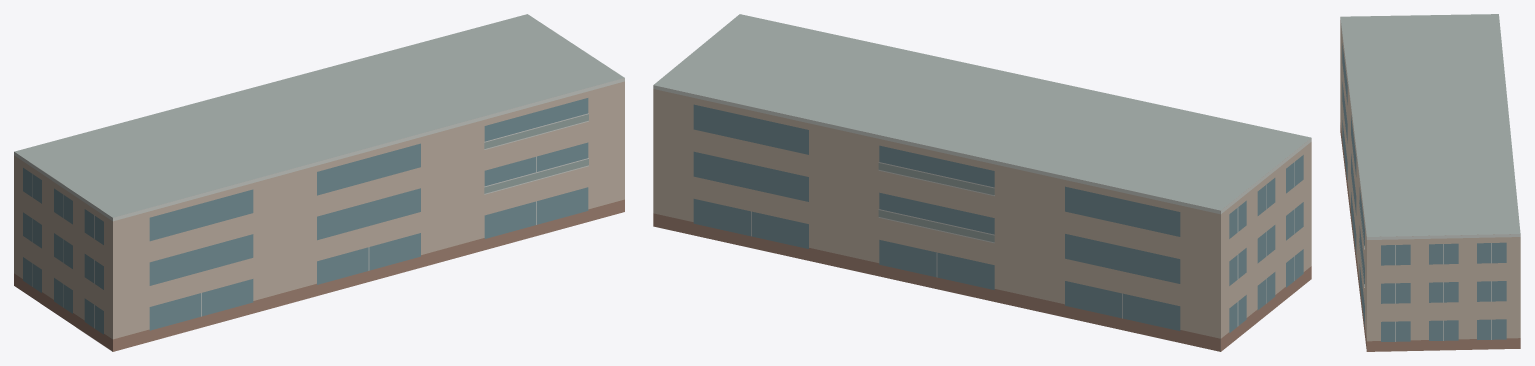
File: survey-upis-32572019.glb
3 views of the same model, side by side, from view 1: azimuth 30°, elevation 25°; view 2: azimuth 150°, elevation 25°; view 3: azimuth 270°, elevation 25° (orthographic). The views are drawn at different scales.
Visible parts, largest first — view 1: survey-upis-32572019.tmp; view 2: survey-upis-32572019.tmp; view 3: survey-upis-32572019.tmp.
Boxes of the visible parts, x1,y1,x2,y2 form: survey-upis-32572019.tmp: (14,14,624,351); survey-upis-32572019.tmp: (653,14,1311,351); survey-upis-32572019.tmp: (1340,14,1520,351).
Size of the model in its own units: 38.12 by 9.15 by 13.02.
